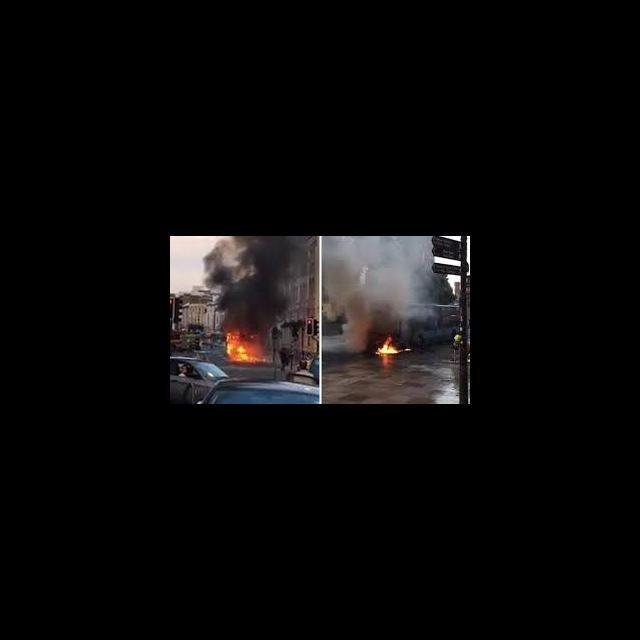Fire: (224, 330, 266, 364), (378, 333, 410, 356)
Smoke: (202, 236, 306, 329), (322, 238, 428, 322), (342, 322, 371, 355)
